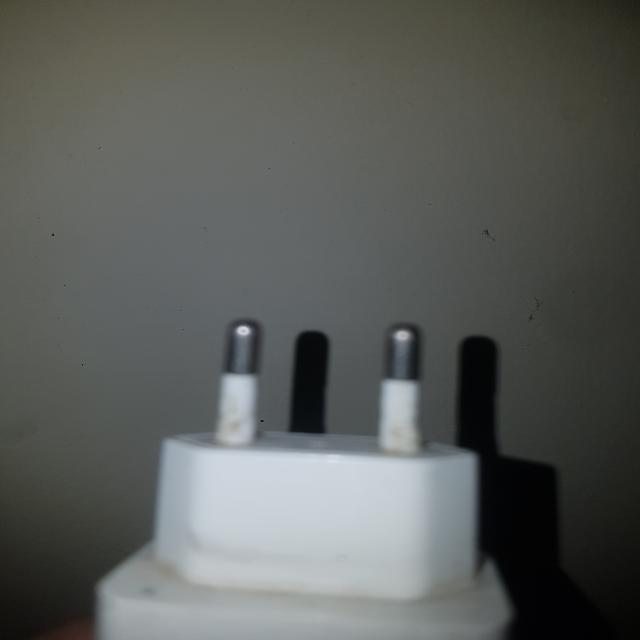electronic: (87, 262, 553, 640)
